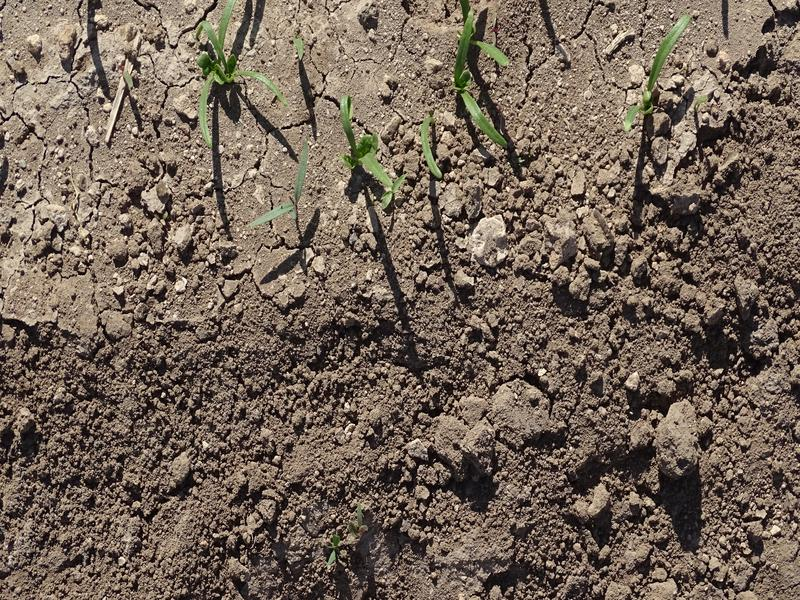Espinaca: (180, 3, 291, 146), (452, 10, 519, 149), (621, 13, 696, 130), (247, 143, 319, 229), (341, 96, 398, 189), (419, 115, 447, 180)
